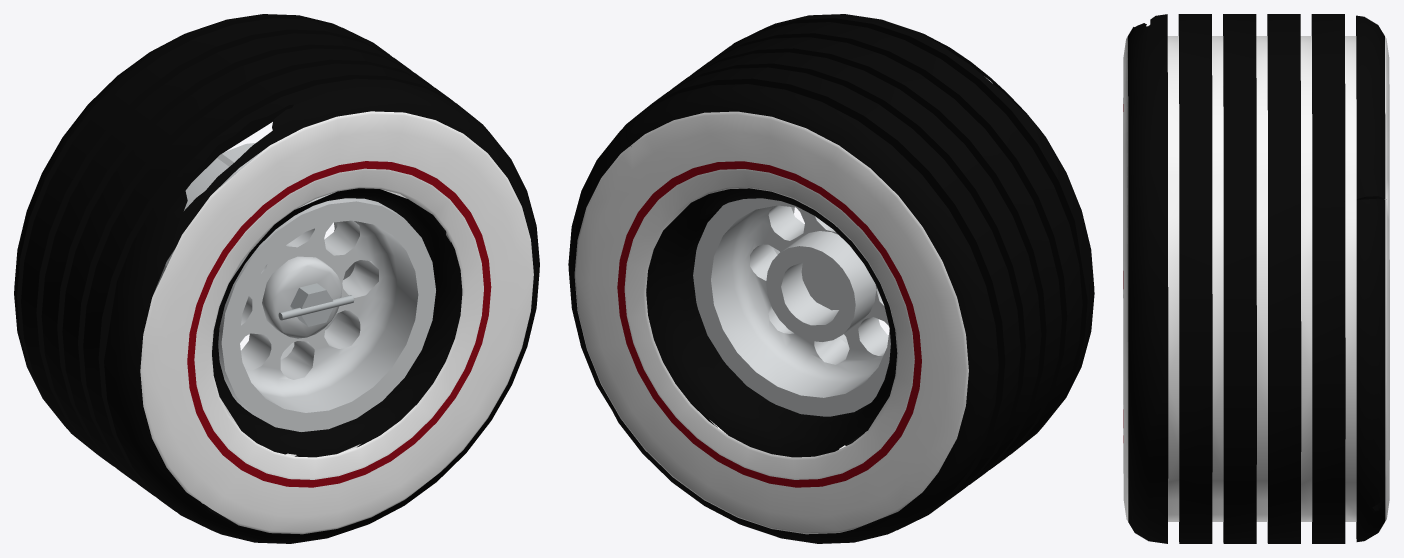
Rendered from fathom-rueda.glb.
The picture shows the model from 3 angles, left to right: view 1: azimuth 30°, elevation 25°; view 2: azimuth 150°, elevation 25°; view 3: azimuth 270°, elevation 25°; orthographic projection. The views are drawn at different scales.
Visible parts, largest first — view 1: rueda; view 2: rueda; view 3: rueda.
Boxes of the visible parts, left/top/right/bottom form: rueda: left=14, top=14, right=539, bottom=543; rueda: left=568, top=14, right=1094, bottom=543; rueda: left=1123, top=14, right=1389, bottom=543.
Bounding box in the file's own units: 0.054 × 0.054 × 0.0271.
